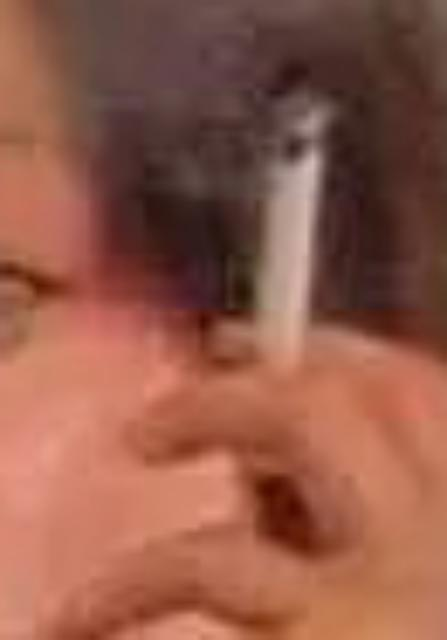Smoking: (244, 94, 325, 493)
